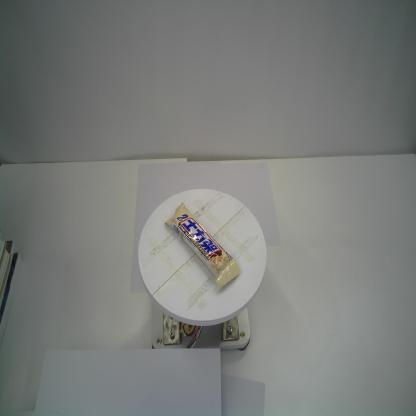Chocolate: (164, 201, 242, 291)
